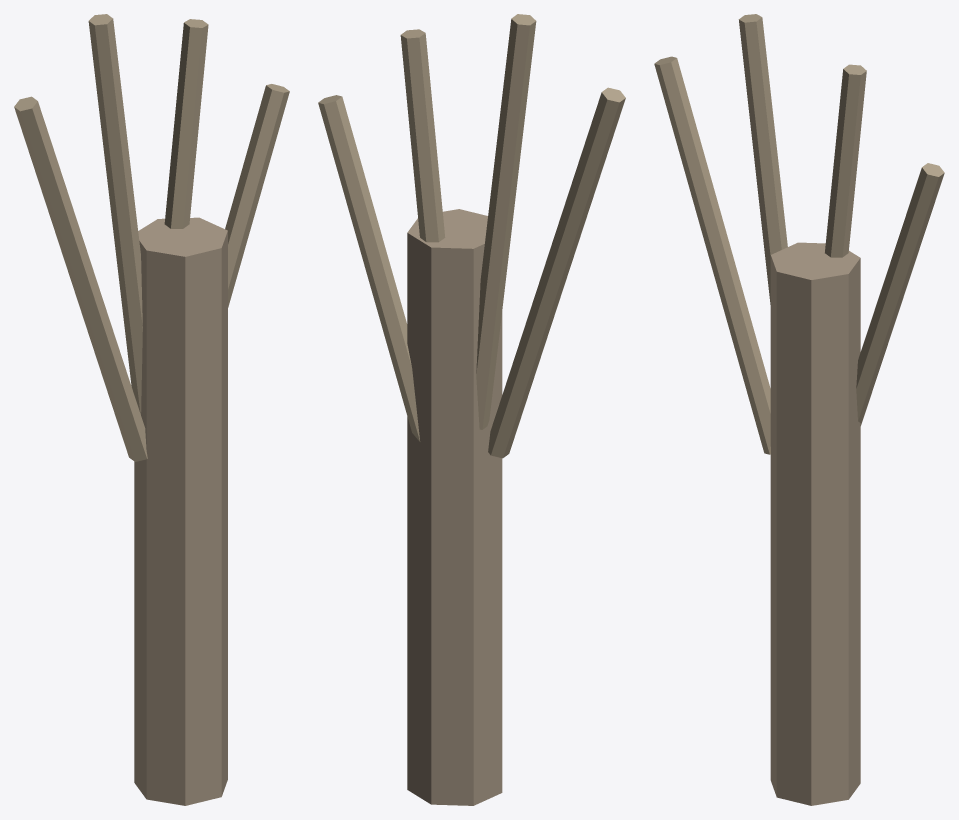
The model's file is bent_willow_far-Cknft8Z5.glb.
3 renders of one model, left to right at view 1: azimuth 30°, elevation 25°; view 2: azimuth 150°, elevation 25°; view 3: azimuth 330°, elevation 25°, orthographic. The views are drawn at different scales.
Parts seen in each view (by area): view 1: bent_willow_far; view 2: bent_willow_far; view 3: bent_willow_far.
Part boxes in pixels (left/top/right/bottom): bent_willow_far: left=14, top=14, right=289, bottom=805; bent_willow_far: left=318, top=14, right=625, bottom=805; bent_willow_far: left=654, top=14, right=944, bottom=805.
Bounding box in the file's own units: 4.75 × 12.5 × 1.33.
